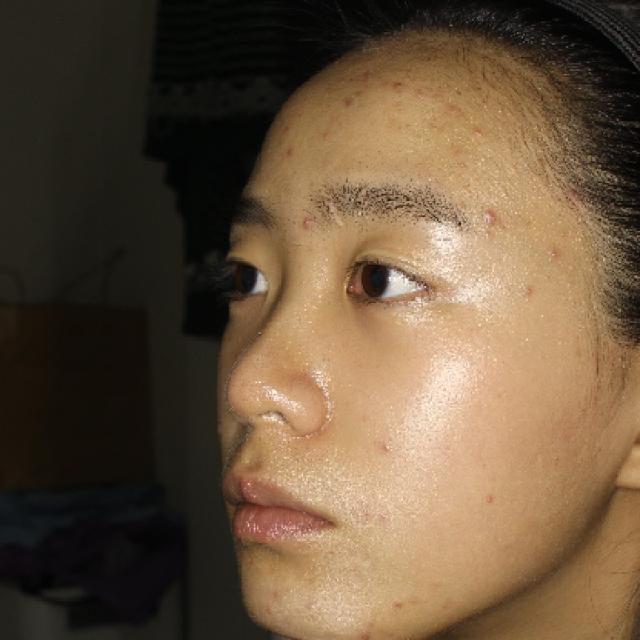Acne: (475, 197, 511, 235)
Whiteheads: (542, 240, 566, 263), (374, 438, 397, 460), (520, 282, 543, 303)
